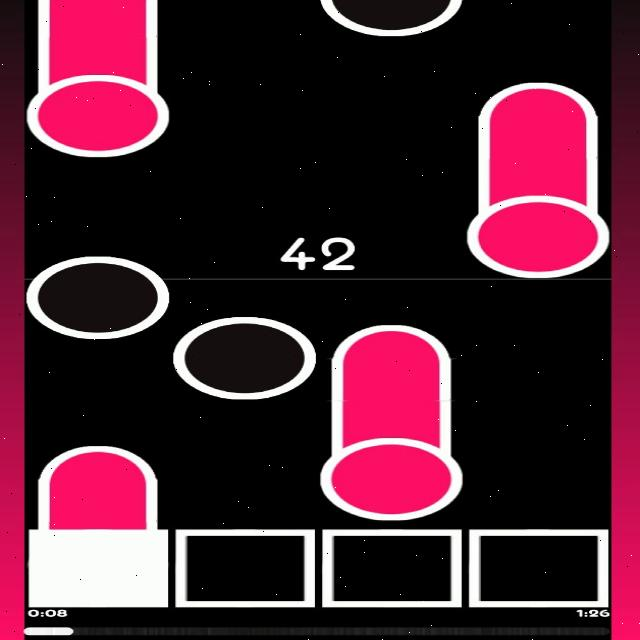end_hold: (472, 72, 606, 130), (329, 318, 455, 369), (36, 437, 160, 487)
note: (29, 252, 170, 340), (172, 314, 314, 401), (318, 0, 464, 37)
start_hold: (463, 178, 612, 279), (316, 419, 462, 521), (27, 58, 172, 160)
